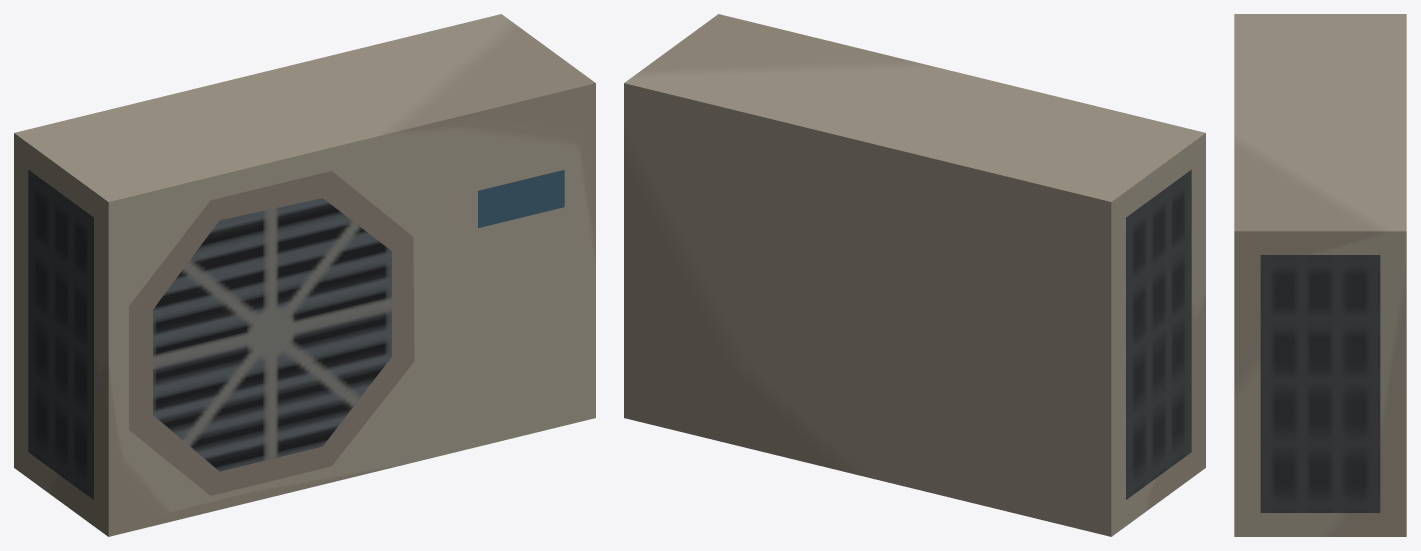
Rendered from SM_Prop_Airconditioner_Optimized_02.fbx.
3 renders of one model, left to right at view 1: azimuth 30°, elevation 25°; view 2: azimuth 150°, elevation 25°; view 3: azimuth 270°, elevation 25°, orthographic. The views are drawn at different scales.
Parts seen in each view (by area): view 1: SM_Prop_Airconditioner_Optimized_02; view 2: SM_Prop_Airconditioner_Optimized_02; view 3: SM_Prop_Airconditioner_Optimized_02.
Part boxes in pixels (bbox=[...]): SM_Prop_Airconditioner_Optimized_02: bbox=[14, 14, 595, 536]; SM_Prop_Airconditioner_Optimized_02: bbox=[624, 14, 1205, 536]; SM_Prop_Airconditioner_Optimized_02: bbox=[1234, 14, 1406, 536].
Bounding box in the file's own units: 107 × 70.52 × 36.07.
